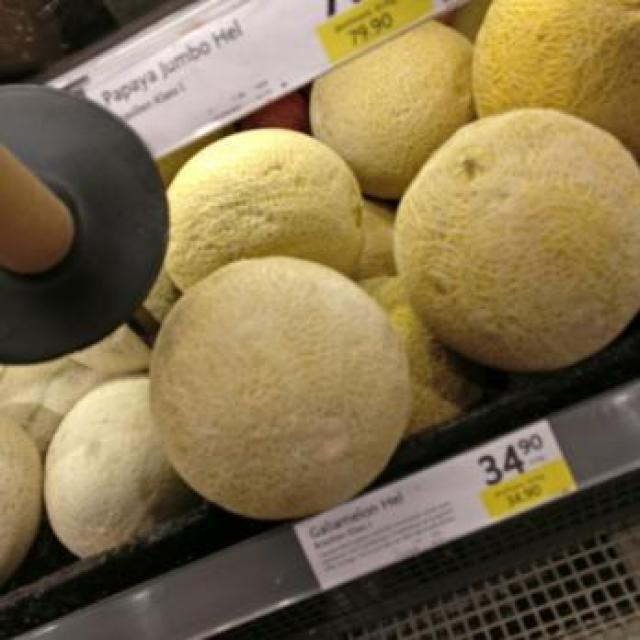Cantaloupe: (136, 250, 419, 540), (388, 112, 638, 390), (169, 125, 369, 307)
